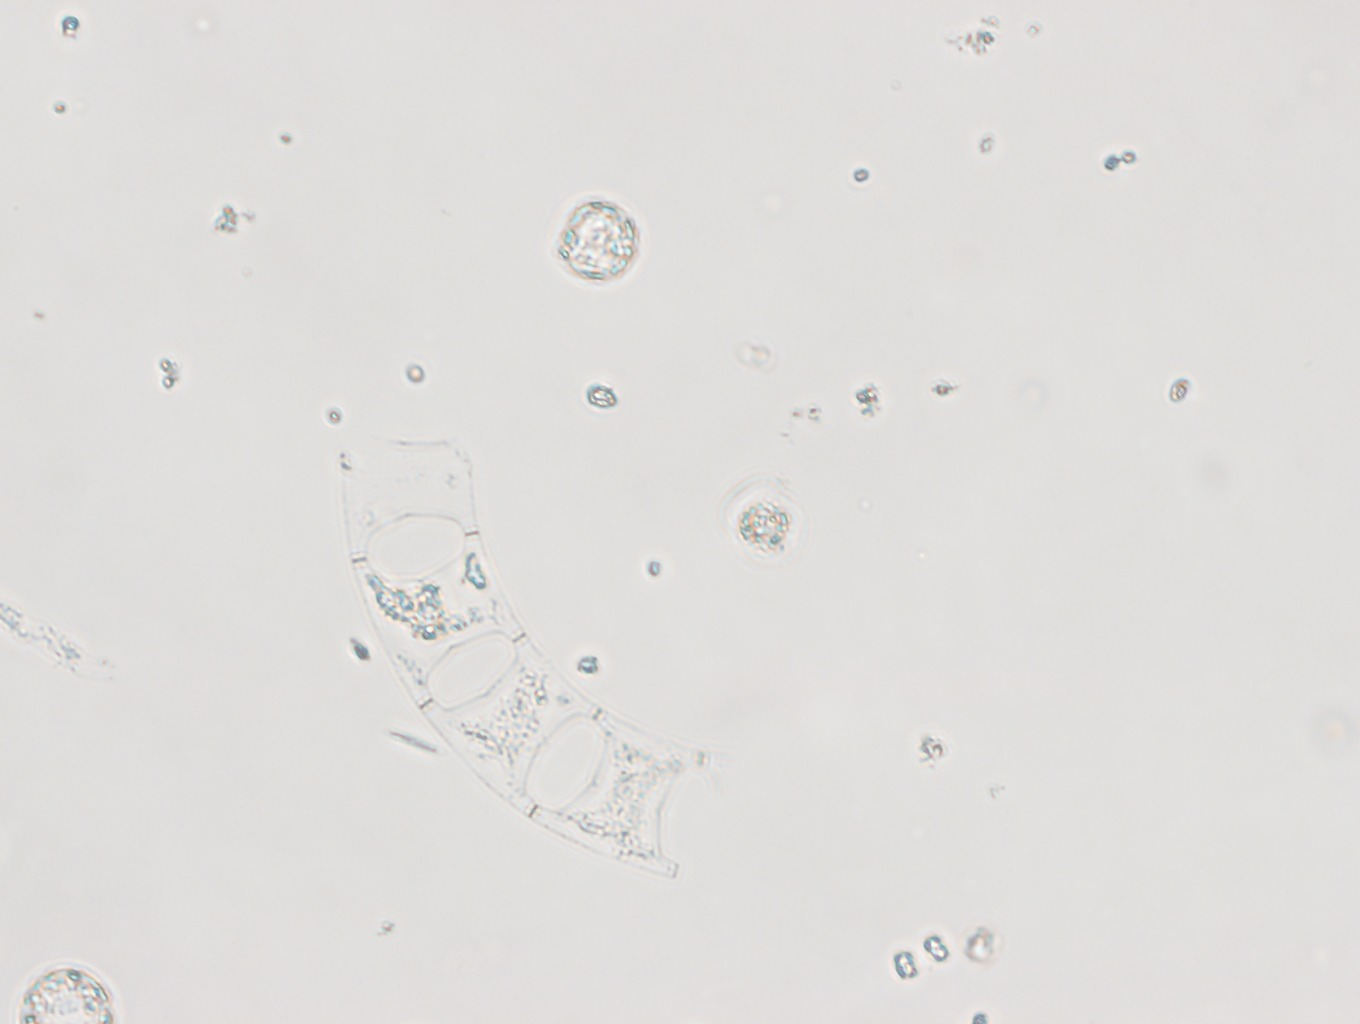eucampia: (338, 431, 711, 880)
